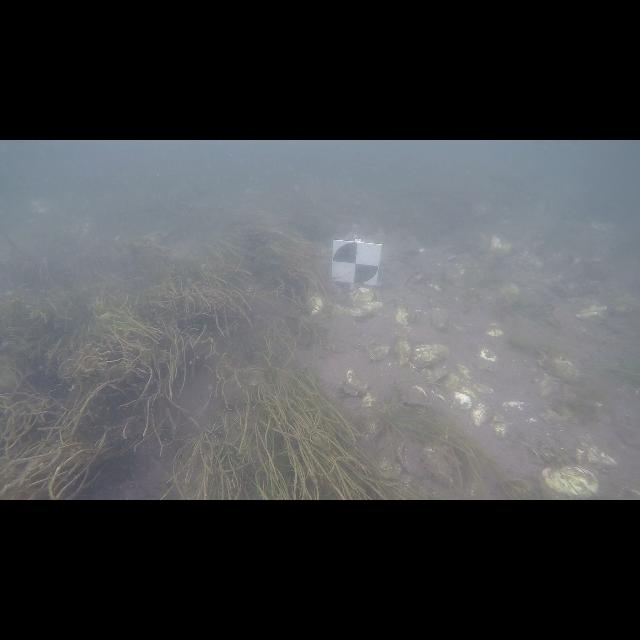Oyster-Closed: (541, 466, 599, 498), (411, 344, 449, 369), (341, 370, 369, 396), (399, 382, 428, 406), (476, 349, 499, 372), (362, 391, 386, 412), (395, 336, 411, 365), (396, 306, 419, 325), (351, 288, 374, 306), (420, 368, 448, 382), (308, 296, 325, 318), (368, 346, 390, 361), (454, 391, 472, 409), (445, 372, 460, 390), (471, 408, 486, 426), (492, 421, 506, 439), (456, 365, 472, 380), (502, 401, 526, 411), (474, 384, 492, 394), (486, 328, 504, 338)
Oyster-Open: (347, 299, 383, 324), (396, 441, 416, 478)
